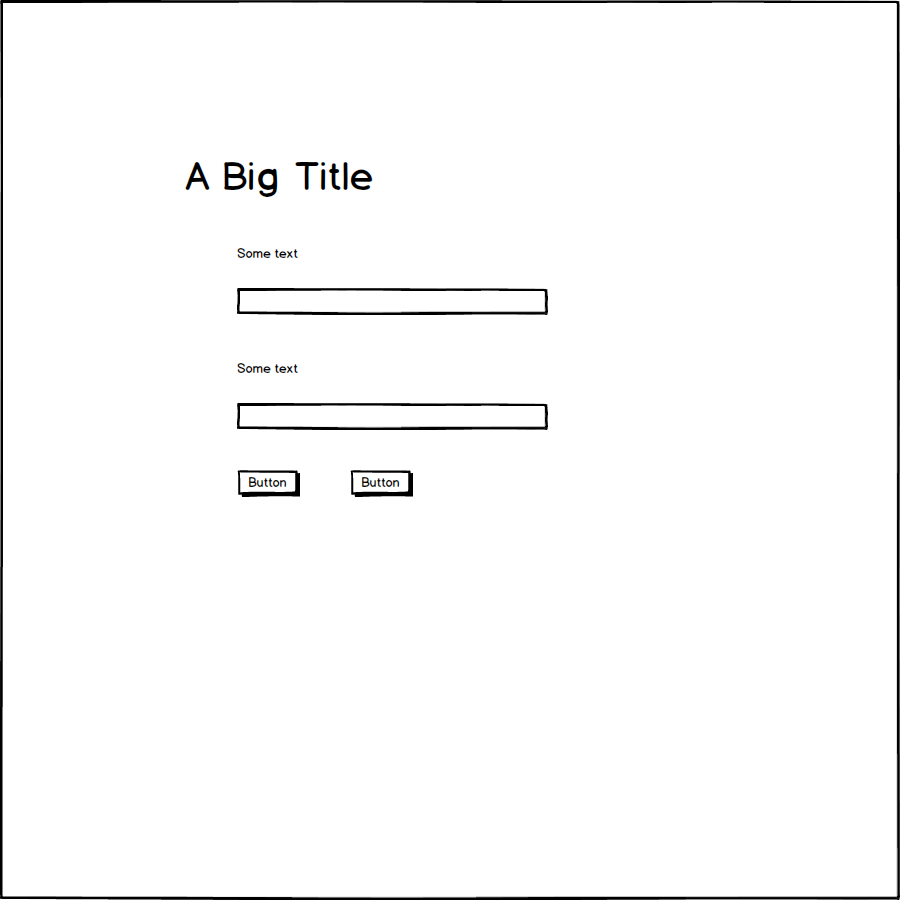button: (345, 464, 420, 503), (233, 466, 304, 503)
h1: (185, 149, 379, 203)
input: (233, 285, 555, 322), (235, 399, 552, 434)
label: (231, 243, 301, 264), (235, 358, 311, 377)
